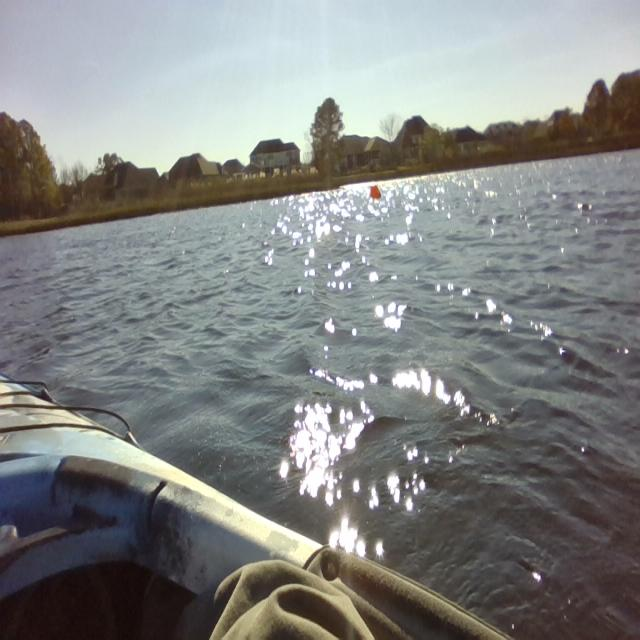Buoy: (364, 180, 386, 206)
